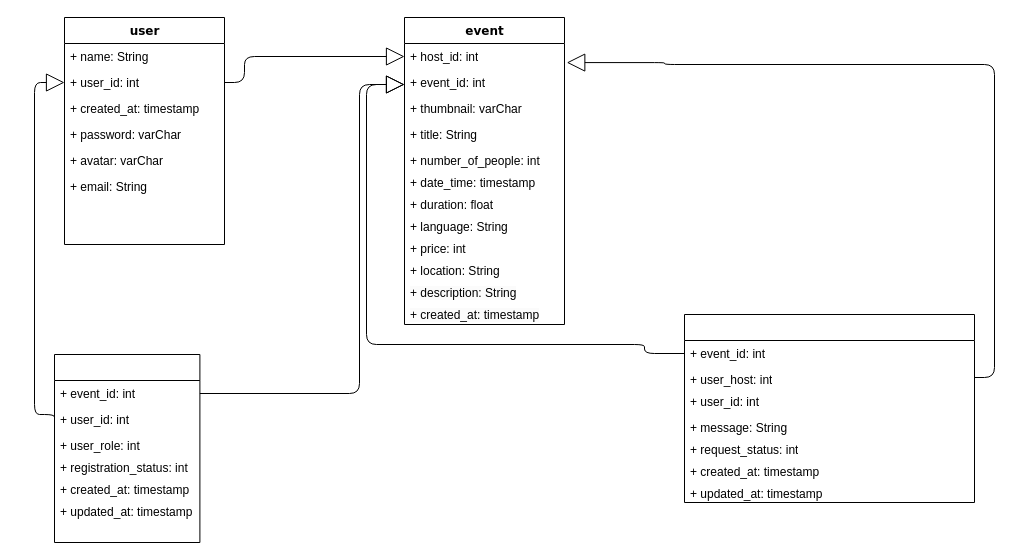
This 1030x560 diagram has some shape labels left out. The shapes that lost their labels are listed below. From the top down, each one's box as (x1, y1, x2, y2) in pixels, then its label:
(684, 314, 974, 502): userHostAppRequest
(54, 354, 200, 542): userEventHistory
